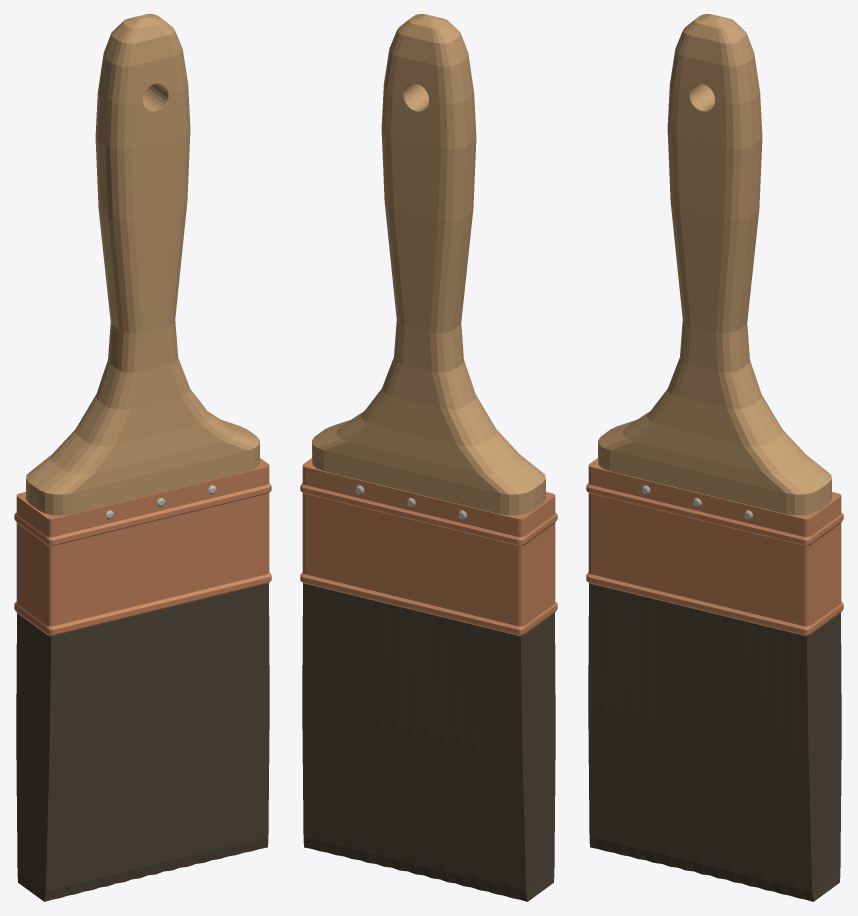
3 renders of one model, left to right at view 1: azimuth 30°, elevation 25°; view 2: azimuth 150°, elevation 25°; view 3: azimuth 330°, elevation 25°, orthographic.
Parts seen in each view (by area): view 1: Closed_finite_synthetic_bristle_bundle_with_restrained_fluti, Pierced_beavertail_hardwood_handle, Closed_copper_ferrule_with_rolled_horizontal_ribs; view 2: Closed_finite_synthetic_bristle_bundle_with_restrained_fluti, Pierced_beavertail_hardwood_handle, Closed_copper_ferrule_with_rolled_horizontal_ribs; view 3: Closed_finite_synthetic_bristle_bundle_with_restrained_fluti, Pierced_beavertail_hardwood_handle, Closed_copper_ferrule_with_rolled_horizontal_ribs.
Boxes of the visible parts, x1,y1,x2,y2 form: Closed_finite_synthetic_bristle_bundle_with_restrained_fluti: [16, 583, 269, 901]; Pierced_beavertail_hardwood_handle: [26, 14, 259, 515]; Closed_copper_ferrule_with_rolled_horizontal_ribs: [14, 458, 271, 635]; Closed_finite_synthetic_bristle_bundle_with_restrained_fluti: [302, 583, 555, 901]; Pierced_beavertail_hardwood_handle: [312, 14, 545, 515]; Closed_copper_ferrule_with_rolled_horizontal_ribs: [300, 458, 557, 635]; Closed_finite_synthetic_bristle_bundle_with_restrained_fluti: [588, 583, 841, 901]; Pierced_beavertail_hardwood_handle: [598, 14, 831, 515]; Closed_copper_ferrule_with_rolled_horizontal_ribs: [586, 458, 843, 635].
Size of the model in its own units: 0.0762 by 0.2762 by 0.0222.
